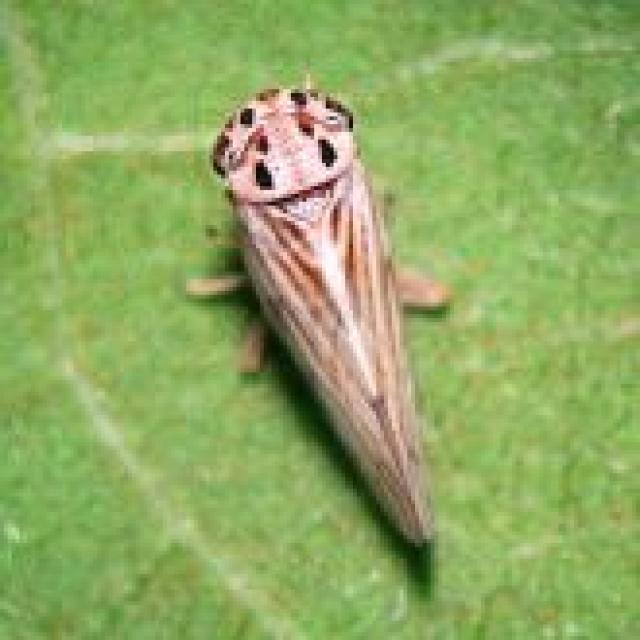Yechan: (152, 63, 466, 558)
